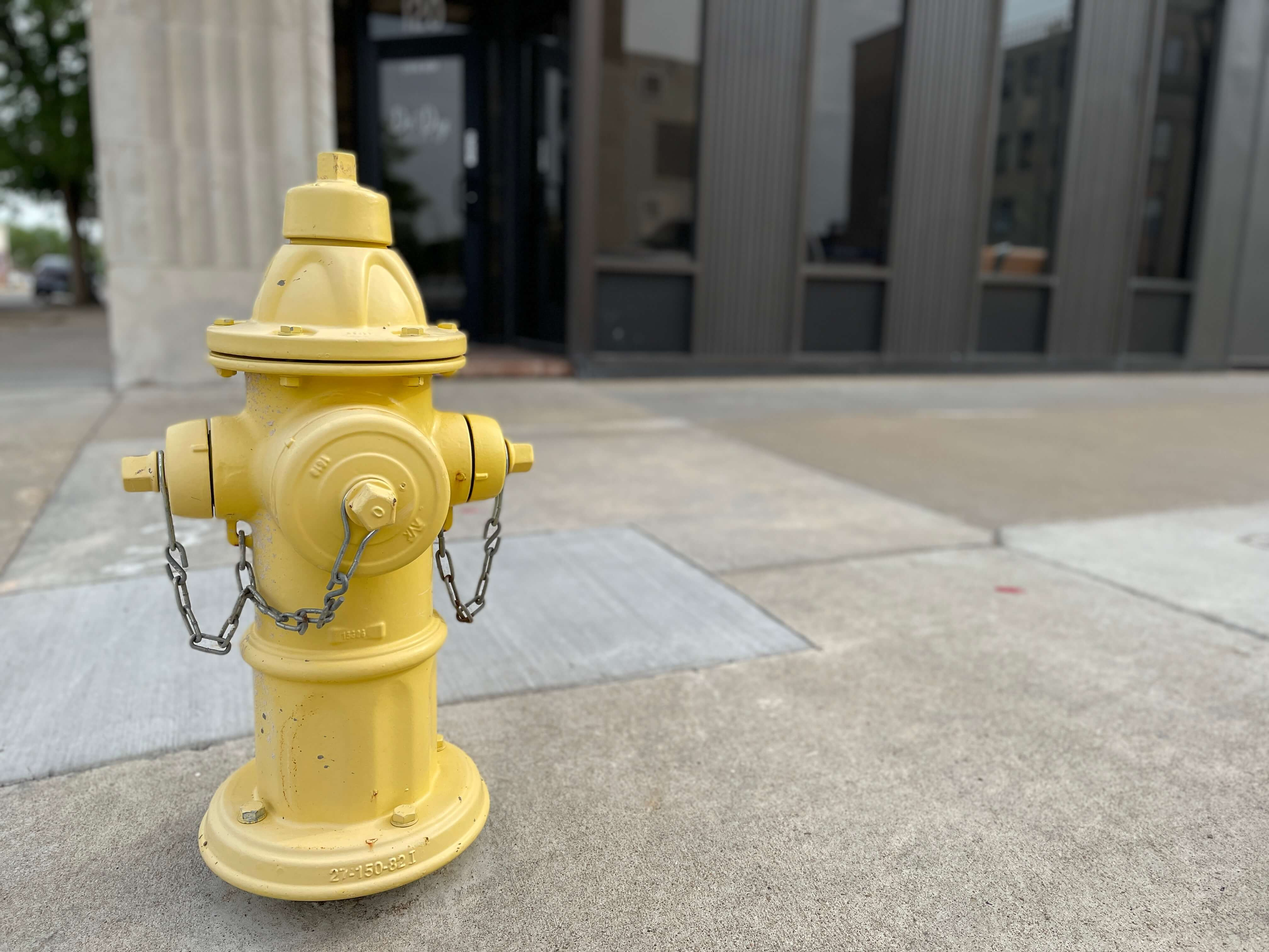FireHydrant: (92, 146, 562, 912)
